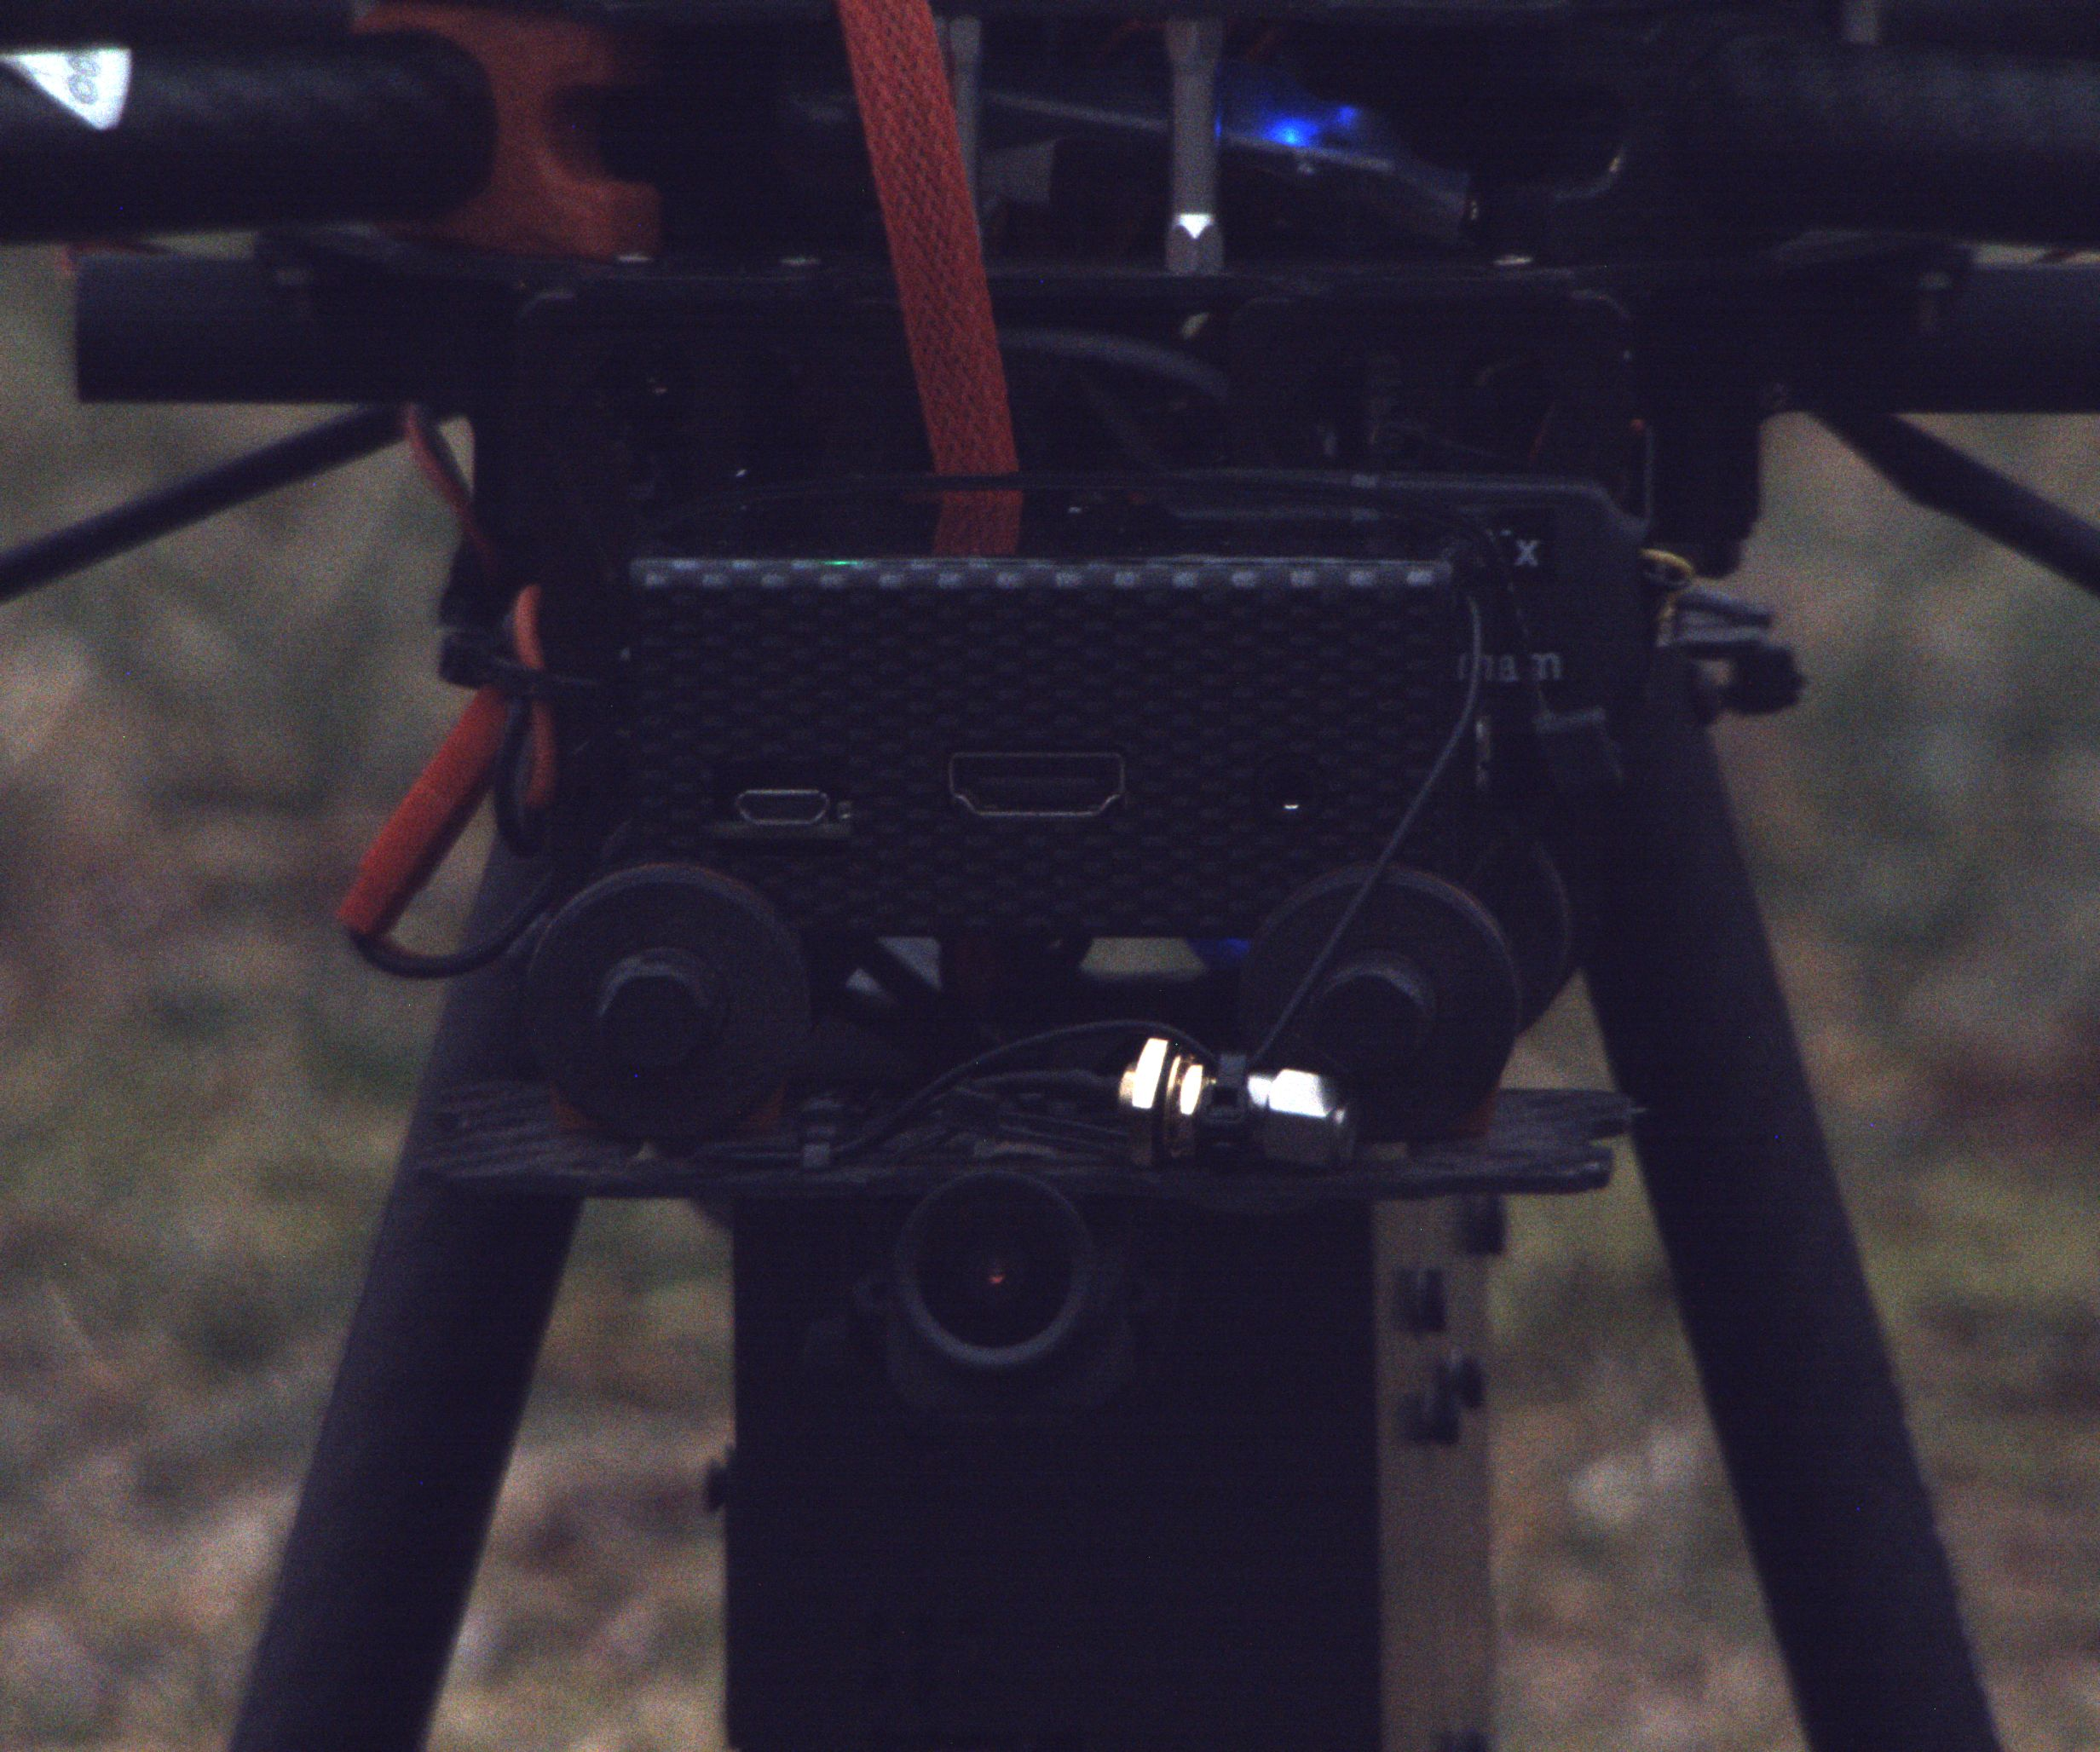Drohne: (7, 5, 2095, 1743)
